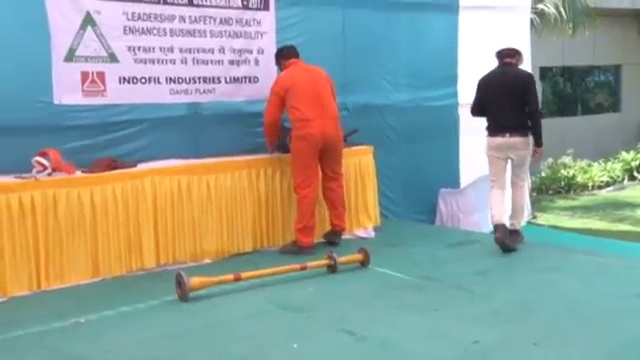helmet: (492, 36, 527, 65)
helmet_off: (273, 44, 298, 71)
helmet_on: (491, 36, 531, 73)
person: (263, 41, 347, 253), (472, 37, 544, 256)
